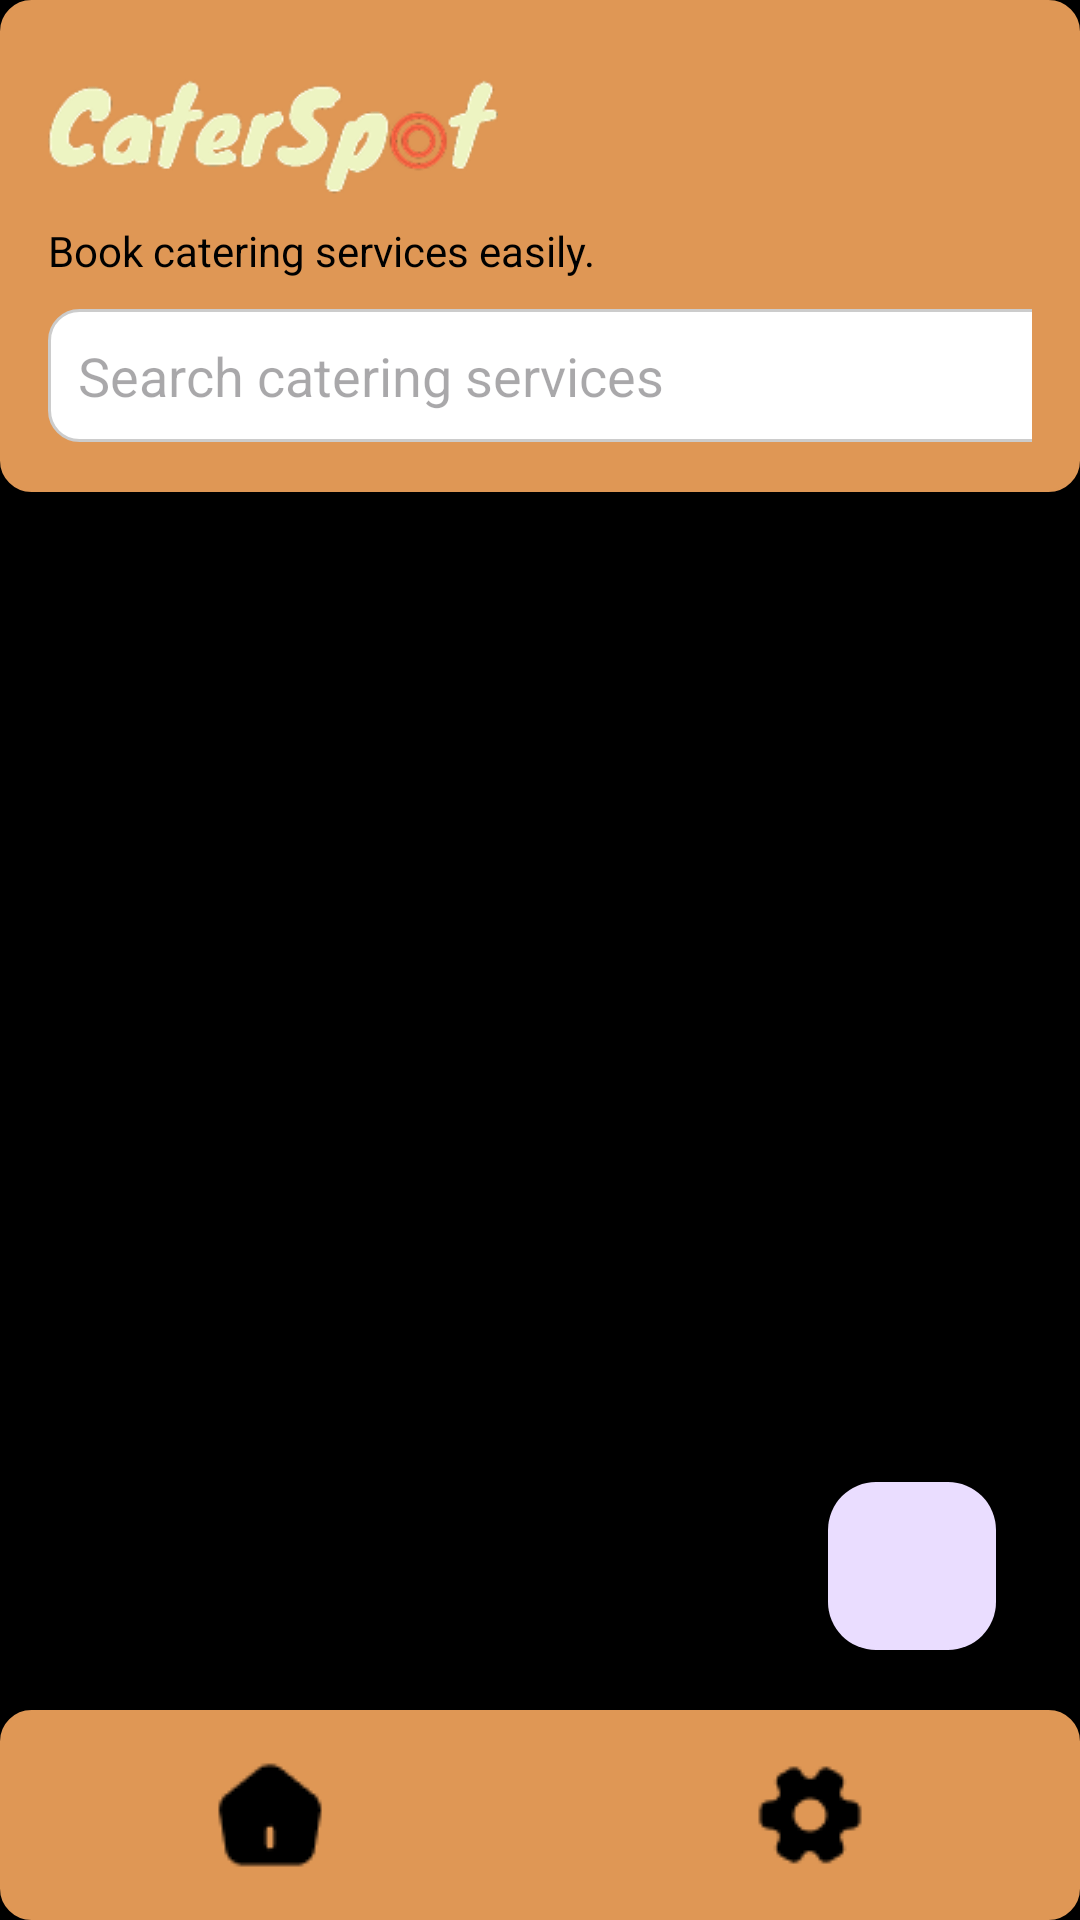

Named icons in this screenshot (1080 x 1920) and their bounding boxes, [x1,y1,x2,y2]:
home: [218,1763,322,1867]
settings: [758,1766,862,1864]
